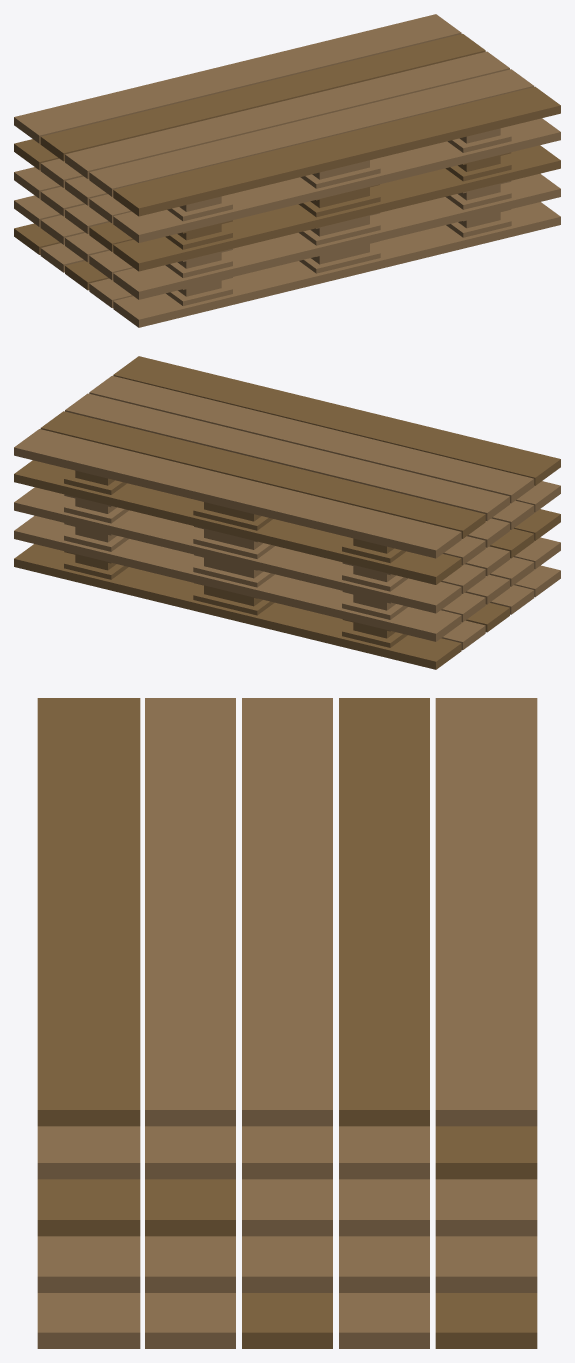
File: PALLET (1).fbx
3 views of the same model, one above another, from view 1: azimuth 30°, elevation 25°; view 2: azimuth 150°, elevation 25°; view 3: azimuth 270°, elevation 25° (orthographic). The views are drawn at different scales.
Parts seen in each view (by area): view 1: Cube.001; view 2: Cube.001; view 3: Cube.001.
Boxes of the visible parts, left/top/right/bottom form: Cube.001: left=14, top=14, right=560, bottom=327; Cube.001: left=14, top=356, right=560, bottom=669; Cube.001: left=37, top=698, right=537, bottom=1348.
Size of the model in its own units: 512 by 138 by 262.
